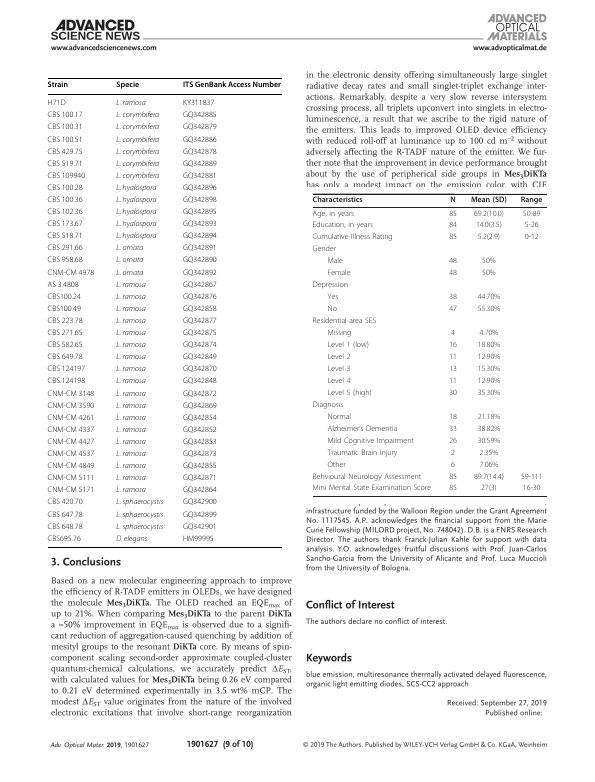borderless: (46, 76, 282, 547), (312, 192, 547, 496)
cell: (312, 484, 432, 494), (312, 472, 422, 482), (182, 80, 282, 90), (326, 436, 415, 446), (312, 233, 394, 243), (326, 424, 398, 434), (326, 448, 398, 458), (312, 221, 374, 231), (312, 317, 377, 326), (115, 497, 164, 507), (312, 196, 363, 205), (115, 110, 160, 120), (115, 122, 160, 132), (115, 510, 164, 519), (115, 522, 164, 531), (47, 449, 95, 458), (47, 461, 95, 470), (47, 473, 95, 482), (312, 209, 355, 219), (326, 389, 373, 398), (115, 195, 157, 205), (115, 207, 157, 217), (115, 219, 157, 229), (115, 231, 157, 241), (115, 135, 160, 144), (115, 147, 160, 156), (115, 159, 160, 168), (115, 171, 160, 180), (326, 341, 370, 350), (47, 268, 95, 276), (47, 389, 95, 397), (47, 401, 95, 409), (47, 413, 95, 421), (47, 425, 95, 433), (47, 437, 95, 445), (47, 486, 95, 494), (115, 183, 157, 192), (470, 196, 508, 205), (312, 281, 349, 290), (47, 195, 83, 204), (182, 195, 218, 204), (47, 207, 83, 216), (182, 207, 218, 216), (47, 219, 83, 228), (182, 219, 218, 228), (47, 328, 83, 337), (182, 328, 218, 337), (47, 340, 83, 349), (182, 340, 218, 349), (47, 352, 83, 361), (182, 352, 218, 361), (182, 449, 218, 458), (182, 461, 218, 470), (182, 473, 218, 482), (115, 98, 147, 108), (115, 316, 147, 326), (115, 328, 147, 338), (115, 340, 147, 350), (115, 352, 147, 362), (115, 364, 147, 374), (115, 376, 147, 386), (115, 437, 147, 447), (115, 449, 147, 459), (115, 461, 147, 471), (115, 473, 147, 483), (115, 485, 147, 495), (473, 209, 505, 219), (473, 472, 505, 482), (47, 171, 86, 179), (47, 365, 86, 373), (47, 377, 86, 385), (182, 98, 215, 107), (115, 534, 148, 543), (46, 111, 83, 119), (46, 123, 83, 131), (46, 135, 83, 143), (115, 243, 144, 253), (182, 111, 218, 119), (182, 123, 218, 131), (182, 135, 218, 143), (47, 147, 83, 155), (182, 147, 218, 155), (47, 159, 83, 167), (182, 159, 218, 167), (182, 171, 218, 179), (47, 183, 83, 191), (182, 183, 218, 191), (47, 232, 83, 240), (182, 232, 218, 240), (47, 244, 83, 252), (182, 244, 218, 252), (47, 256, 83, 264), (182, 256, 218, 264), (182, 268, 218, 276), (115, 280, 147, 289), (182, 280, 218, 288), (115, 292, 147, 301), (182, 292, 218, 300), (115, 304, 147, 313), (182, 304, 218, 312), (47, 316, 83, 324), (182, 316, 218, 324), (182, 365, 218, 373), (182, 377, 218, 385), (115, 389, 147, 398), (182, 389, 218, 397), (115, 401, 147, 410), (182, 401, 218, 409), (115, 413, 147, 422), (182, 413, 218, 421), (115, 425, 147, 434), (182, 425, 218, 433), (182, 437, 218, 445), (182, 486, 218, 494), (47, 498, 83, 506), (182, 498, 218, 506), (47, 510, 83, 518), (182, 510, 218, 518), (47, 522, 83, 530), (182, 522, 218, 530), (312, 401, 344, 410), (47, 292, 82, 300), (47, 304, 82, 312), (47, 534, 82, 542), (475, 221, 503, 231), (47, 280, 80, 288), (182, 534, 215, 542), (115, 256, 144, 265), (115, 268, 144, 277), (326, 412, 352, 422), (115, 80, 140, 90), (312, 245, 337, 255), (477, 233, 501, 243), (477, 412, 501, 422), (477, 424, 501, 434), (477, 436, 501, 446), (326, 329, 352, 338), (46, 80, 69, 90), (520, 472, 543, 482), (326, 269, 351, 278), (326, 353, 351, 362), (326, 365, 351, 374), (326, 377, 351, 386), (477, 293, 501, 302), (477, 305, 501, 314), (477, 341, 501, 350), (477, 353, 501, 362), (477, 365, 501, 374), (477, 377, 501, 386), (477, 389, 501, 398), (478, 448, 499, 458), (326, 460, 347, 470), (478, 460, 499, 470), (520, 196, 543, 205), (522, 209, 541, 219), (522, 484, 541, 494), (46, 98, 67, 107), (478, 329, 499, 338), (326, 257, 344, 267), (480, 484, 498, 494), (524, 221, 539, 231), (524, 233, 539, 243), (481, 257, 496, 267), (481, 269, 496, 278), (326, 293, 339, 302), (326, 305, 338, 314), (448, 209, 458, 219), (448, 221, 458, 231), (448, 233, 458, 243), (448, 257, 458, 267), (448, 412, 458, 422), (448, 424, 458, 434), (448, 436, 458, 446), (448, 472, 458, 482), (448, 484, 458, 494), (448, 269, 458, 278), (448, 293, 458, 302), (448, 305, 458, 314), (448, 341, 458, 350), (448, 353, 458, 362), (448, 365, 458, 374), (448, 377, 458, 386), (448, 389, 458, 398), (449, 196, 457, 205), (450, 448, 456, 458), (450, 460, 456, 470), (450, 329, 456, 338)
